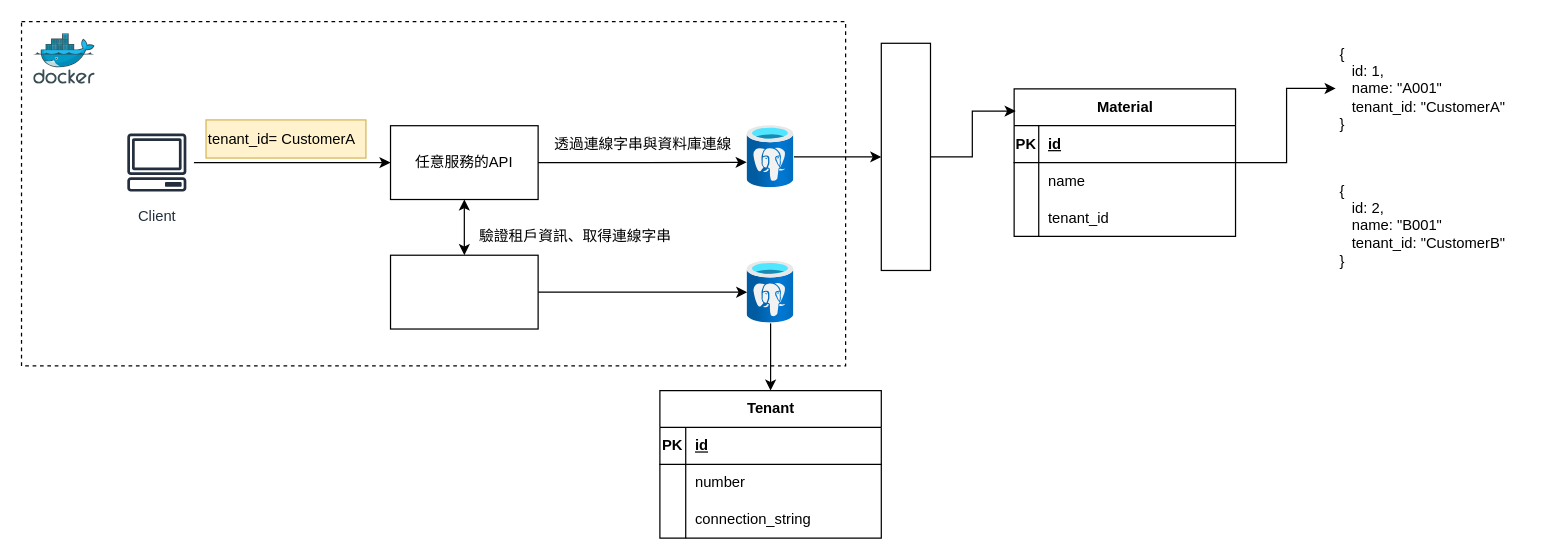
Some shapes in this 1556 by 560 pixel diagram are drawn without their labels. Each missing label, with the box of its shape:
RLS: (880, 42, 930, 270)
TenantAPI: (389, 254, 538, 329)
